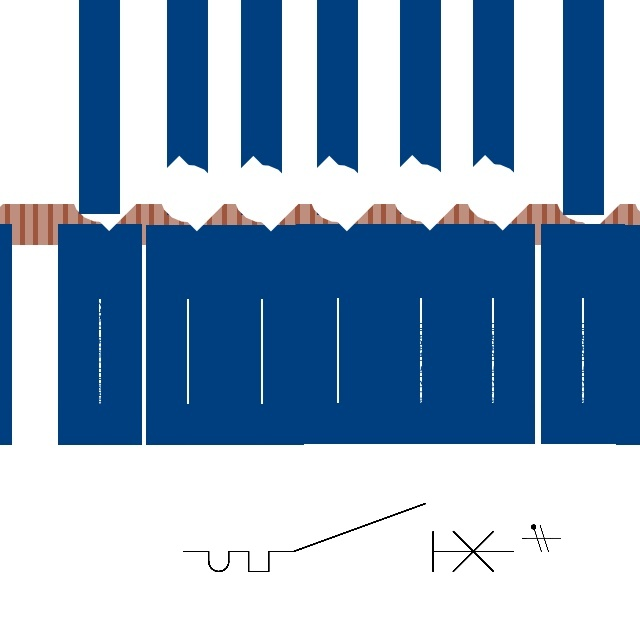interruptor_termomagnetico: (175, 495, 522, 580)
